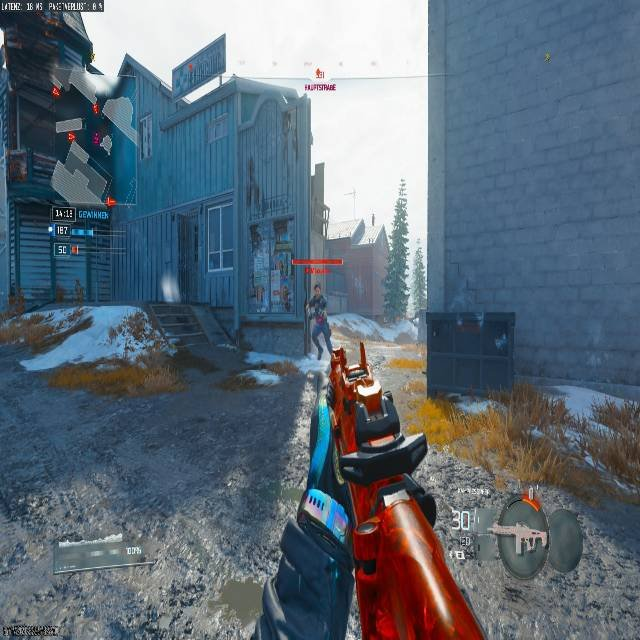head: (313, 284, 321, 295)
player: (304, 284, 331, 359)
